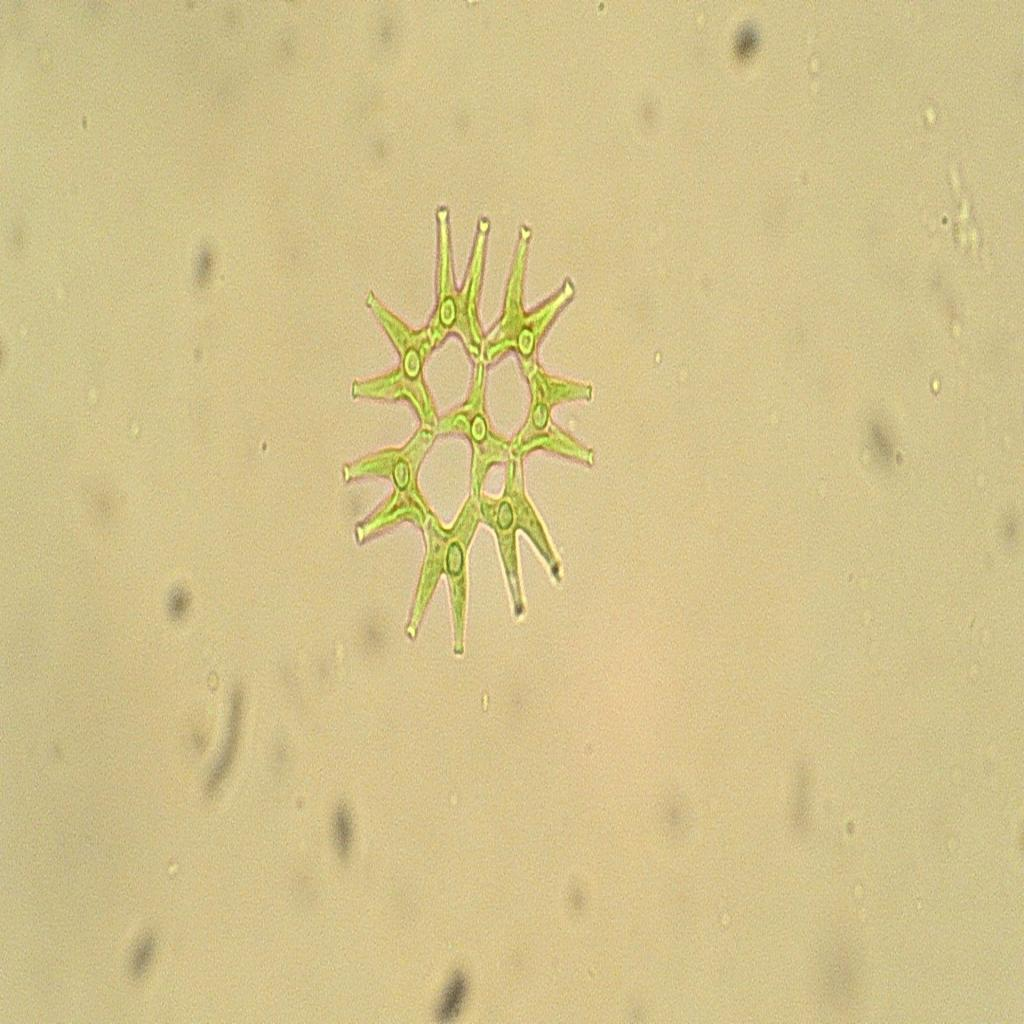Pediastrum_75T: (334, 192, 624, 672)
